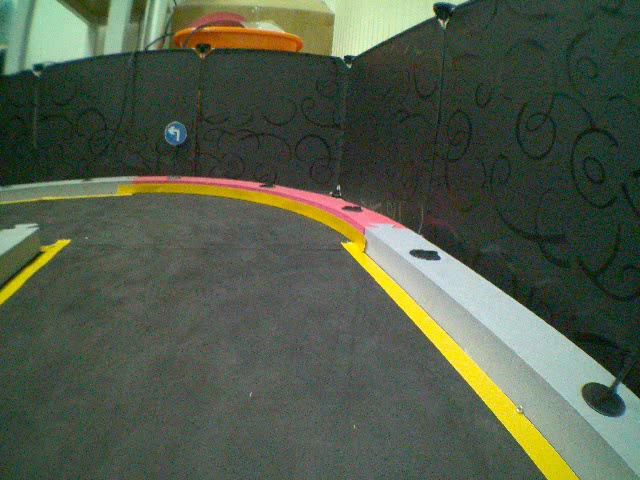turn: (163, 121, 189, 146)
